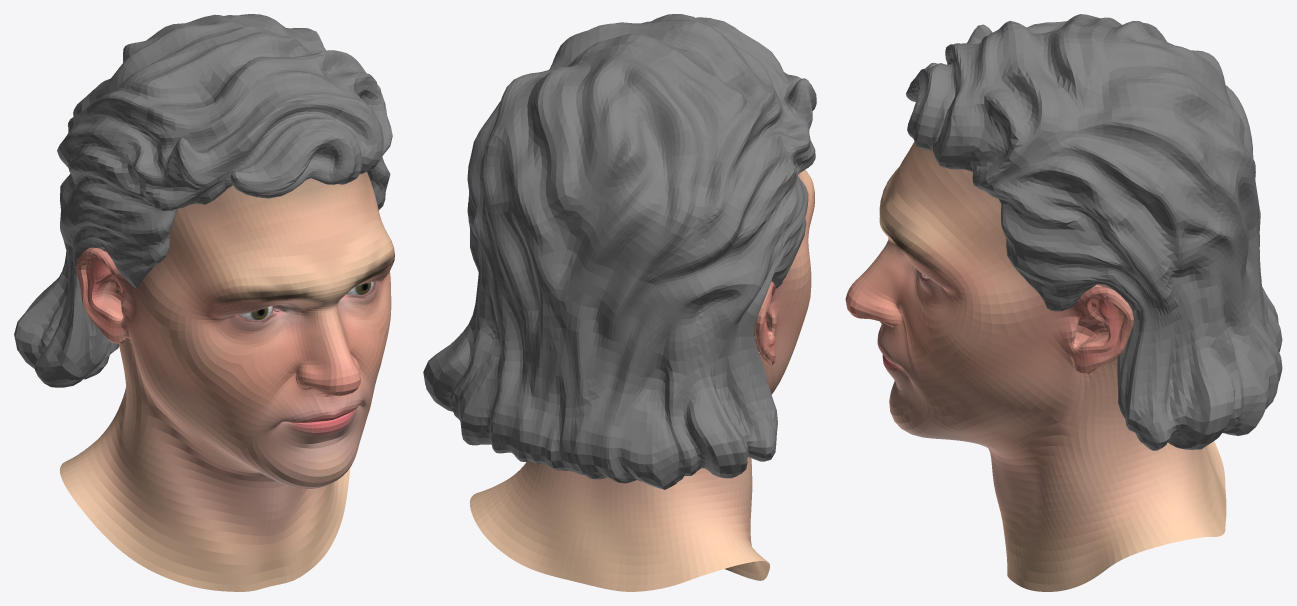
Rendered from necklace.fbx.
3 views of the same model, side by side, from view 1: azimuth 30°, elevation 25°; view 2: azimuth 150°, elevation 25°; view 3: azimuth 270°, elevation 25° (orthographic). The views are drawn at different scales.
Visible parts, largest first — view 1: Kaprizov Kirill, 1_obj_exported; view 2: 1_obj_exported, Kaprizov Kirill; view 3: 1_obj_exported, Kaprizov Kirill.
Boxes of the visible parts, box(x1,y1,x2,y2) form: Kaprizov Kirill: box(59, 172, 394, 591); 1_obj_exported: box(14, 14, 392, 387); 1_obj_exported: box(423, 14, 816, 489); Kaprizov Kirill: box(469, 169, 814, 591); 1_obj_exported: box(906, 14, 1282, 450); Kaprizov Kirill: box(845, 141, 1226, 591).
Bounding box in the file's own units: 0.2087 × 0.3322 × 0.2452.
